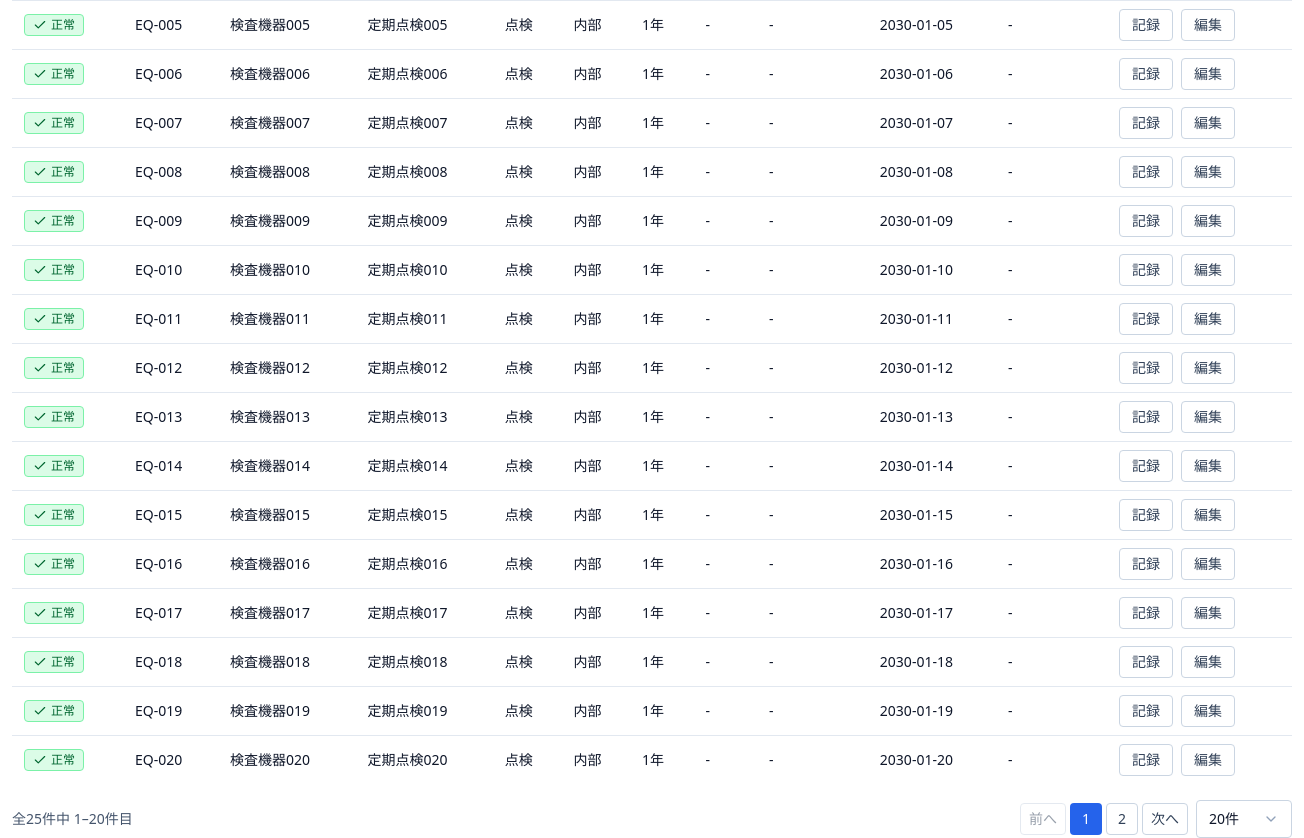
Test: ServiceItemList: ページネーション › 「次へ」クリックで表示行が切り替わる
(page scrolled)
Click the button "次へ".
click(1165, 819)  # box 1142,803 -> 1188,835
(page scrolled)
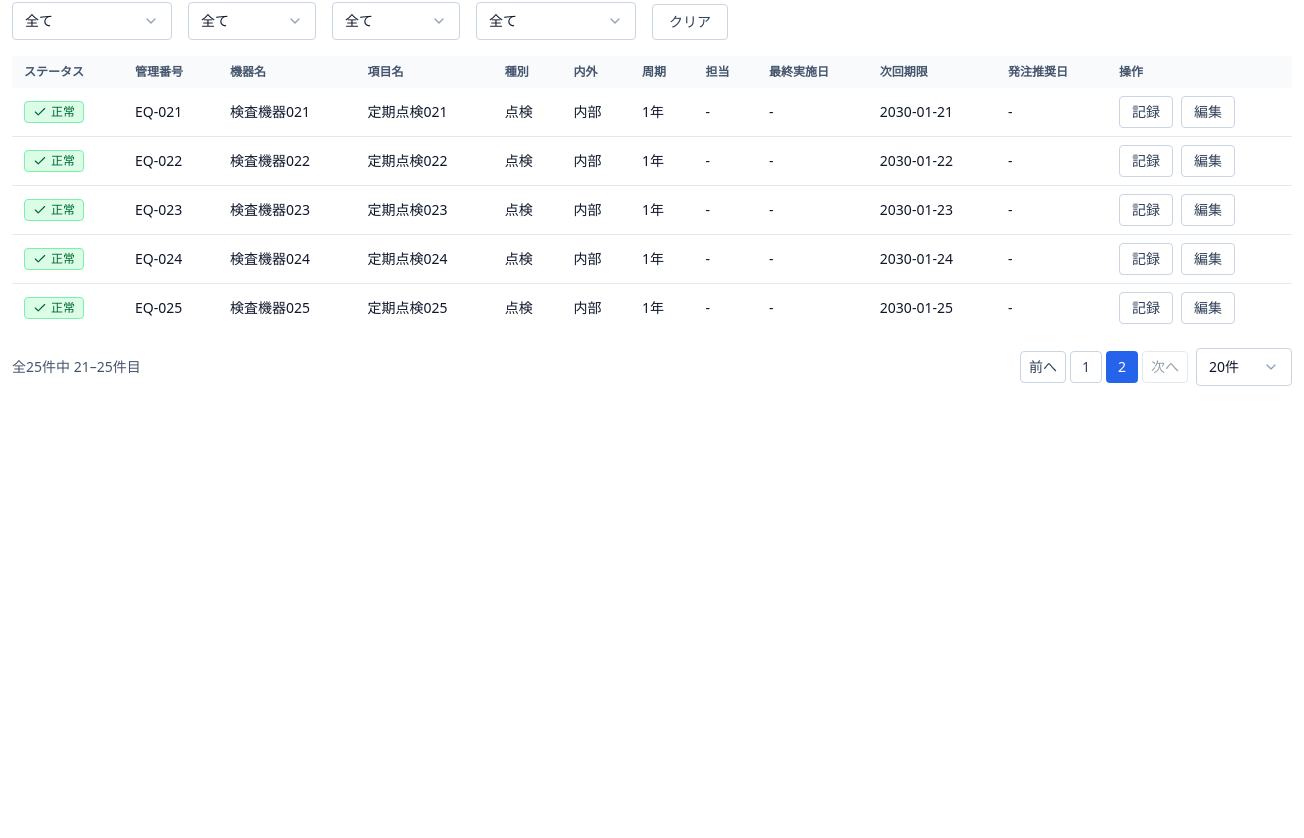
Expected: the text "定期点検021" is shown, 367,102 -> 447,121
